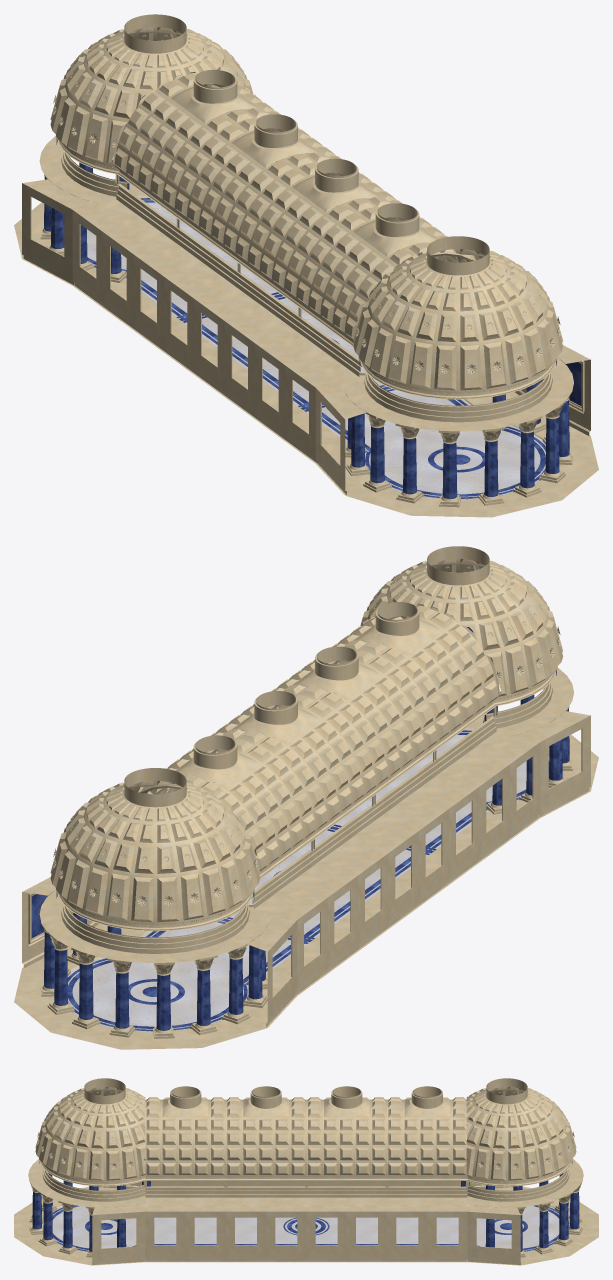
The model's file is techo_longitudinal.glb.
The picture shows the model from 3 angles, top to bottom: view 1: azimuth 30°, elevation 25°; view 2: azimuth 150°, elevation 25°; view 3: azimuth 270°, elevation 25°; orthographic projection. The views are drawn at different scales.
Visible parts, largest first — view 1: Cupula_Inicio, Cupula_Fin, Piso_Rotonda_Inicio, Pared_Sofito, Cupula_Cornisa_Inicio, Cornisa_Friso, Piso_Corredor, Piso_Bordes, Cupula_Cornisa_Fin, Domo_Muro_Fin_06, Oculo_03, Oculo_02 (+43 smaller); view 2: Cupula_Fin, Cupula_Inicio, Piso_Rotonda_Fin, Pared_Sofito, Cupula_Cornisa_Fin, Cornisa_Friso, Piso_Corredor, Piso_Bordes, Cupula_Cornisa_Inicio, Domo_Muro_Inicio_00, Oculo_00, Oculo_02 (+43 smaller); view 3: Cupula_Inicio, Cupula_Fin, Cornisa_Friso, Piso_Corredor, Pared_Sofito, Piso_Rotonda_Fin, Piso_Rotonda_Inicio, Cupula_Cornisa_Inicio, Cupula_Cornisa_Fin, Domo_Muro_Fin_00, Domo_Muro_Inicio_06, Piso_Bordes (+42 smaller).
Boxes of the visible parts, box(x1,y1,x2,y2) form: Cupula_Inicio: box(353, 236, 563, 392); Cupula_Fin: box(50, 14, 255, 166); Piso_Rotonda_Inicio: box(316, 414, 598, 517); Pared_Sofito: box(73, 200, 357, 387); Cupula_Cornisa_Inicio: box(342, 358, 573, 431); Cornisa_Friso: box(115, 161, 398, 377); Piso_Corredor: box(125, 250, 471, 452); Piso_Bordes: box(73, 279, 524, 463); Cupula_Cornisa_Fin: box(39, 95, 236, 203); Domo_Muro_Fin_06: box(22, 183, 74, 284); Oculo_03: box(171, 69, 257, 123); Oculo_02: box(231, 114, 317, 167); Cupula_Fin: box(50, 768, 260, 923); Cupula_Inicio: box(360, 546, 563, 698); Piso_Rotonda_Fin: box(14, 946, 296, 1049); Pared_Sofito: box(256, 732, 539, 919); Cupula_Cornisa_Fin: box(39, 889, 271, 963); Cornisa_Friso: box(212, 702, 497, 908); Piso_Corredor: box(142, 783, 488, 984); Piso_Bordes: box(89, 810, 539, 995); Cupula_Cornisa_Inicio: box(375, 627, 573, 735); Domo_Muro_Inicio_00: box(538, 715, 590, 817); Oculo_00: box(355, 602, 441, 655); Oculo_02: box(234, 691, 320, 744); Cupula_Inicio: box(35, 1078, 145, 1181); Cupula_Fin: box(466, 1078, 576, 1181); Cornisa_Friso: box(145, 1176, 467, 1197); Piso_Corredor: box(154, 1217, 458, 1245); Pared_Sofito: box(145, 1198, 467, 1211); Piso_Rotonda_Fin: box(467, 1186, 598, 1265); Piso_Rotonda_Inicio: box(14, 1187, 145, 1265); Cupula_Cornisa_Inicio: box(28, 1159, 145, 1207); Cupula_Cornisa_Fin: box(466, 1159, 583, 1207); Domo_Muro_Fin_00: box(467, 1211, 520, 1264); Domo_Muro_Inicio_06: box(92, 1211, 145, 1264); Piso_Bordes: box(145, 1186, 467, 1262).
Bounding box in the file's own units: 14.01 × 11.46 × 43.56.
Materials: 3 (3 with a texture image).
